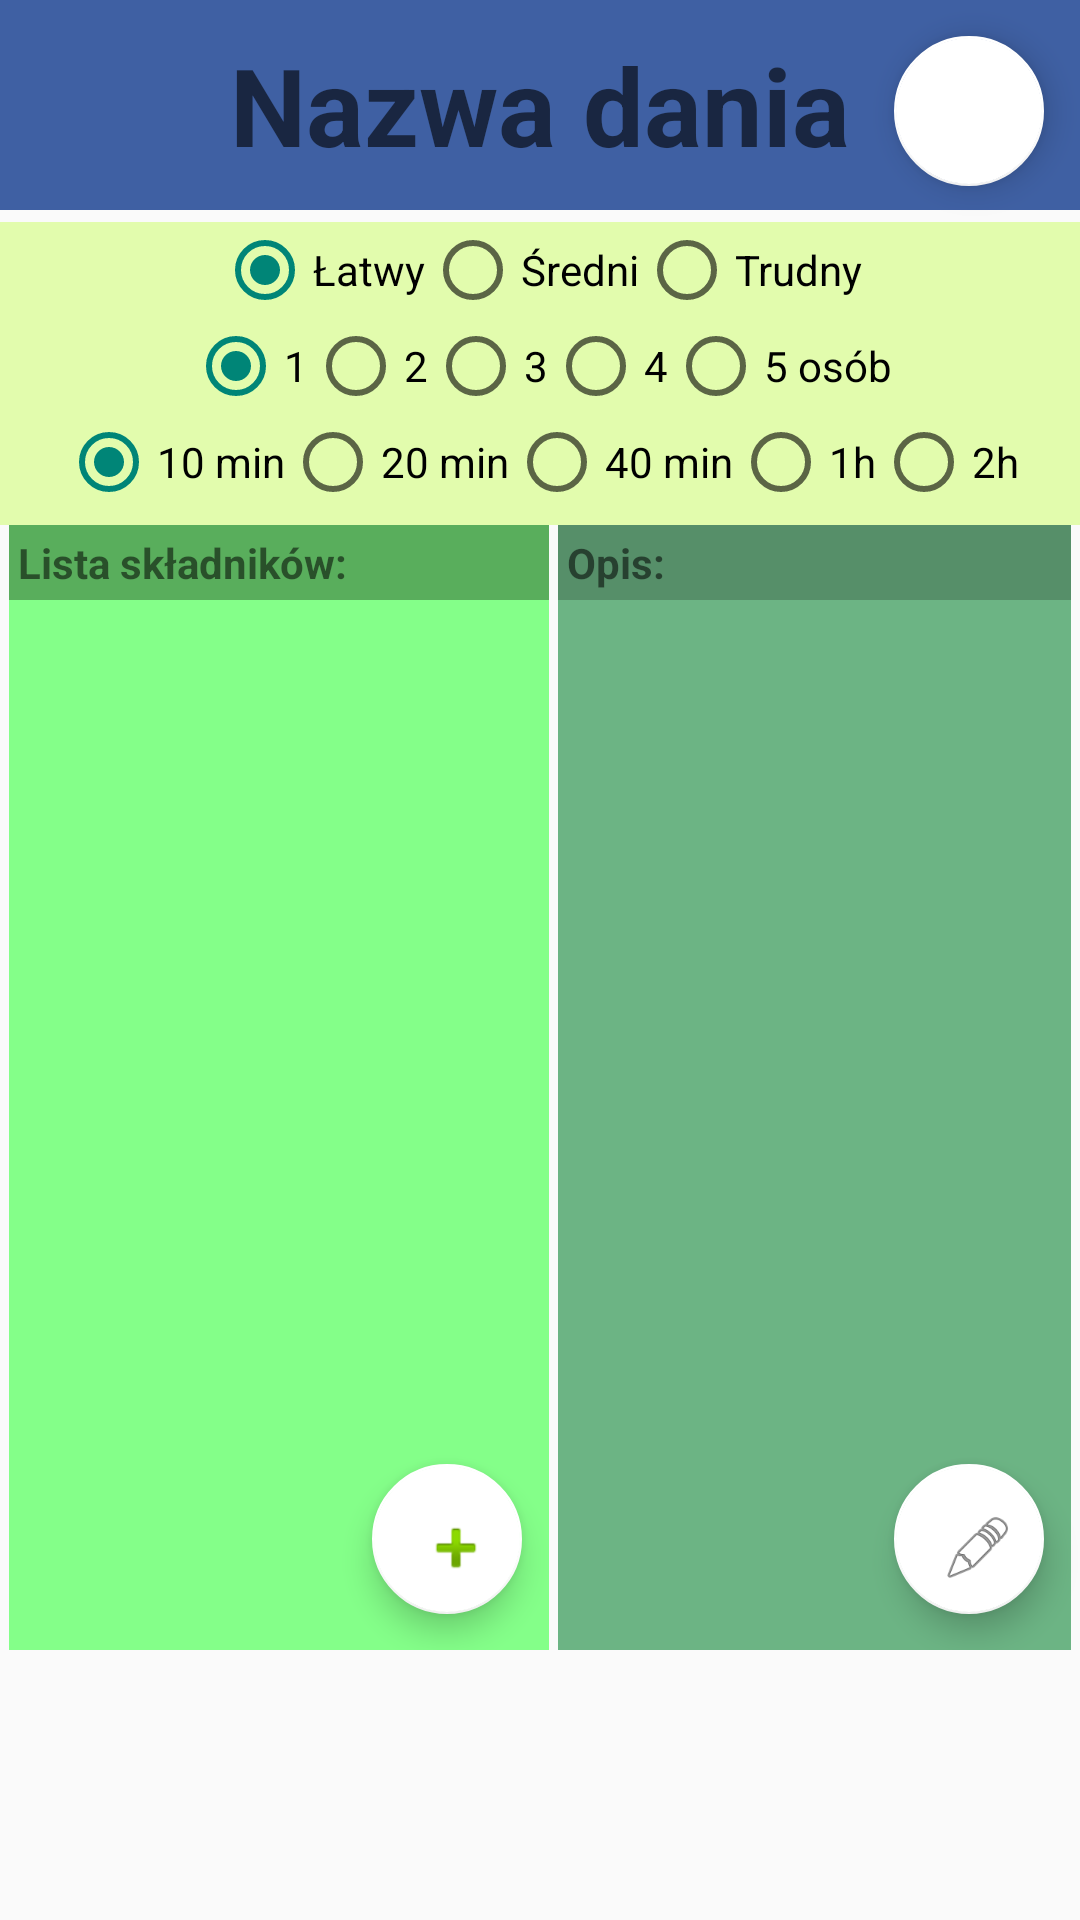

Screen size 1080×1920. Icon name, then its box in pixels as (x1=x1, y1=y1, x2=x2, y2=y2):
add: (x1=372, y1=1464, x2=522, y2=1614)
edit: (x1=894, y1=1464, x2=1044, y2=1614)
